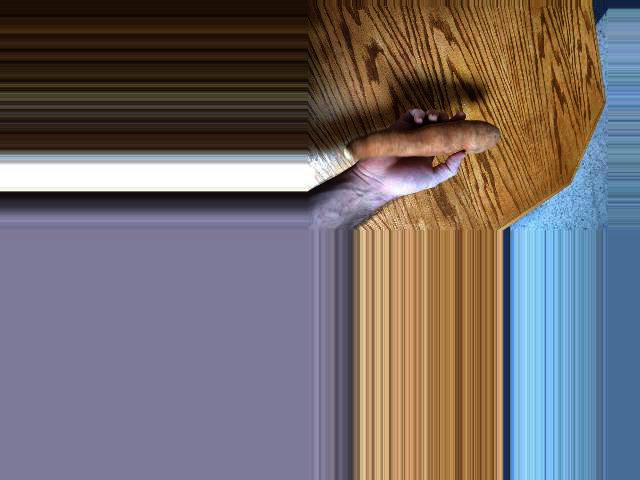sweet_potato: (349, 109, 506, 156)
